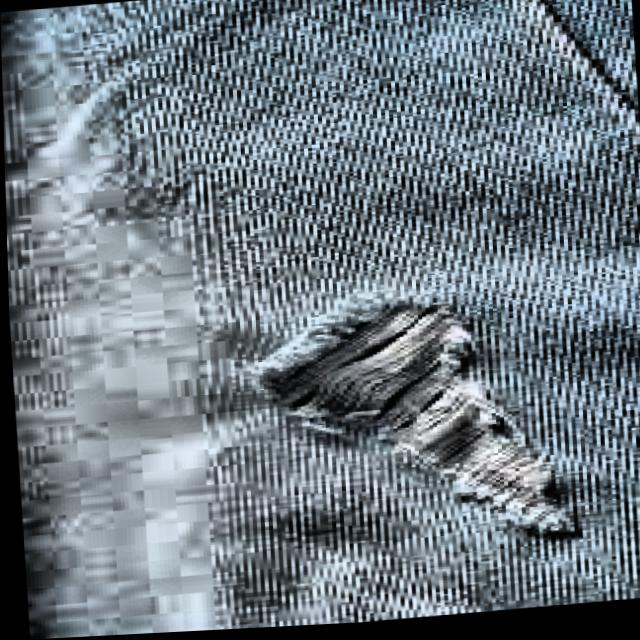Hole: (224, 268, 595, 576)
